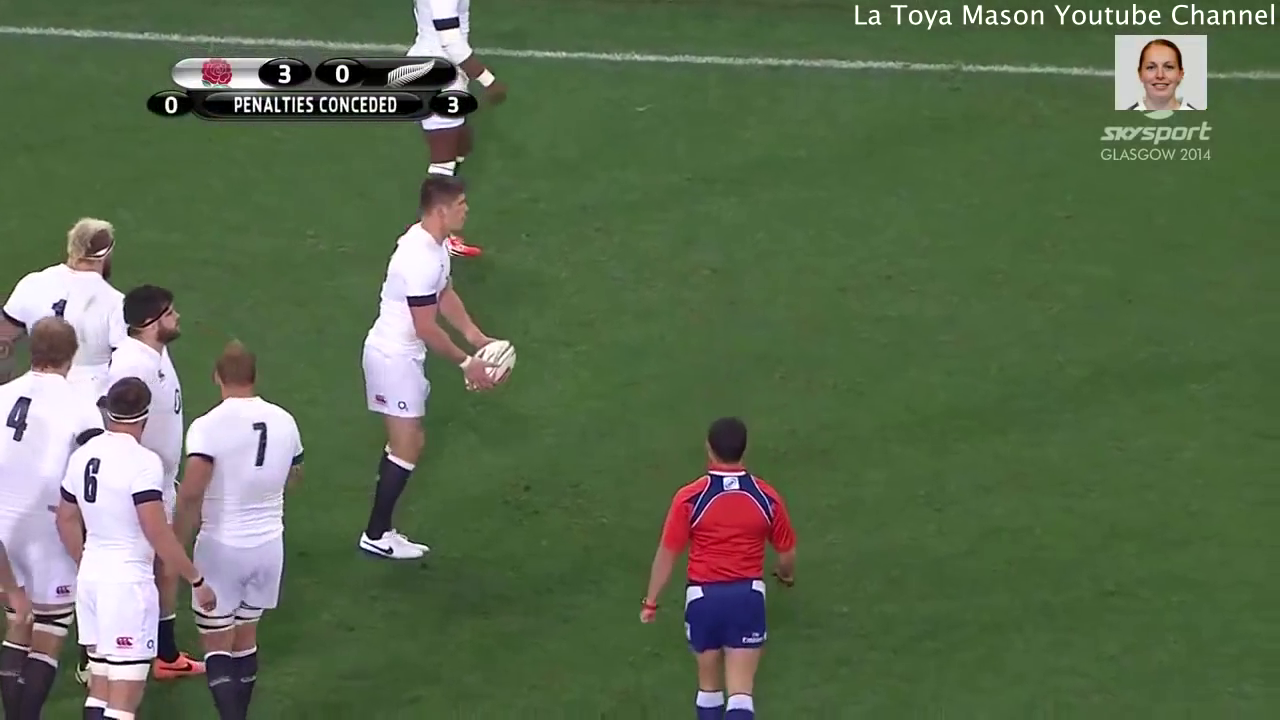ball: (449, 316, 521, 414)
player: (343, 171, 505, 579), (633, 410, 823, 720), (54, 376, 221, 720), (166, 340, 317, 720), (1, 316, 110, 720), (379, 1, 515, 269), (89, 274, 205, 487), (1, 208, 138, 335)
